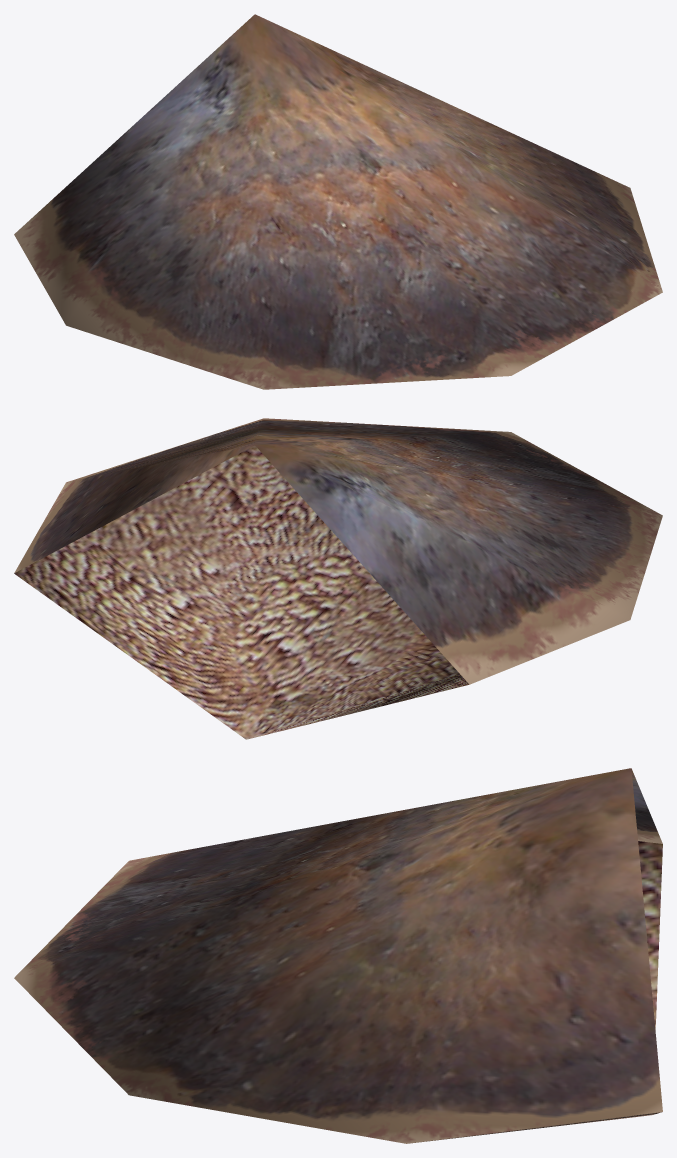
Rendered from Tree_shroom1.fbx.
The picture shows the model from 3 angles, top to bottom: view 1: azimuth 30°, elevation 25°; view 2: azimuth 150°, elevation 25°; view 3: azimuth 270°, elevation 25°; orthographic projection. The views are drawn at different scales.
Parts seen in each view (by area): view 1: pCylinder1; view 2: pCylinder1; view 3: pCylinder1.
Part boxes in pixels (x1=…): pCylinder1: x1=14, y1=14, x2=662, y2=389; pCylinder1: x1=14, y1=418, x2=662, y2=739; pCylinder1: x1=14, y1=768, x2=662, y2=1143.
Bounding box in the file's own units: 0.4554 × 0.2222 × 0.3764.
